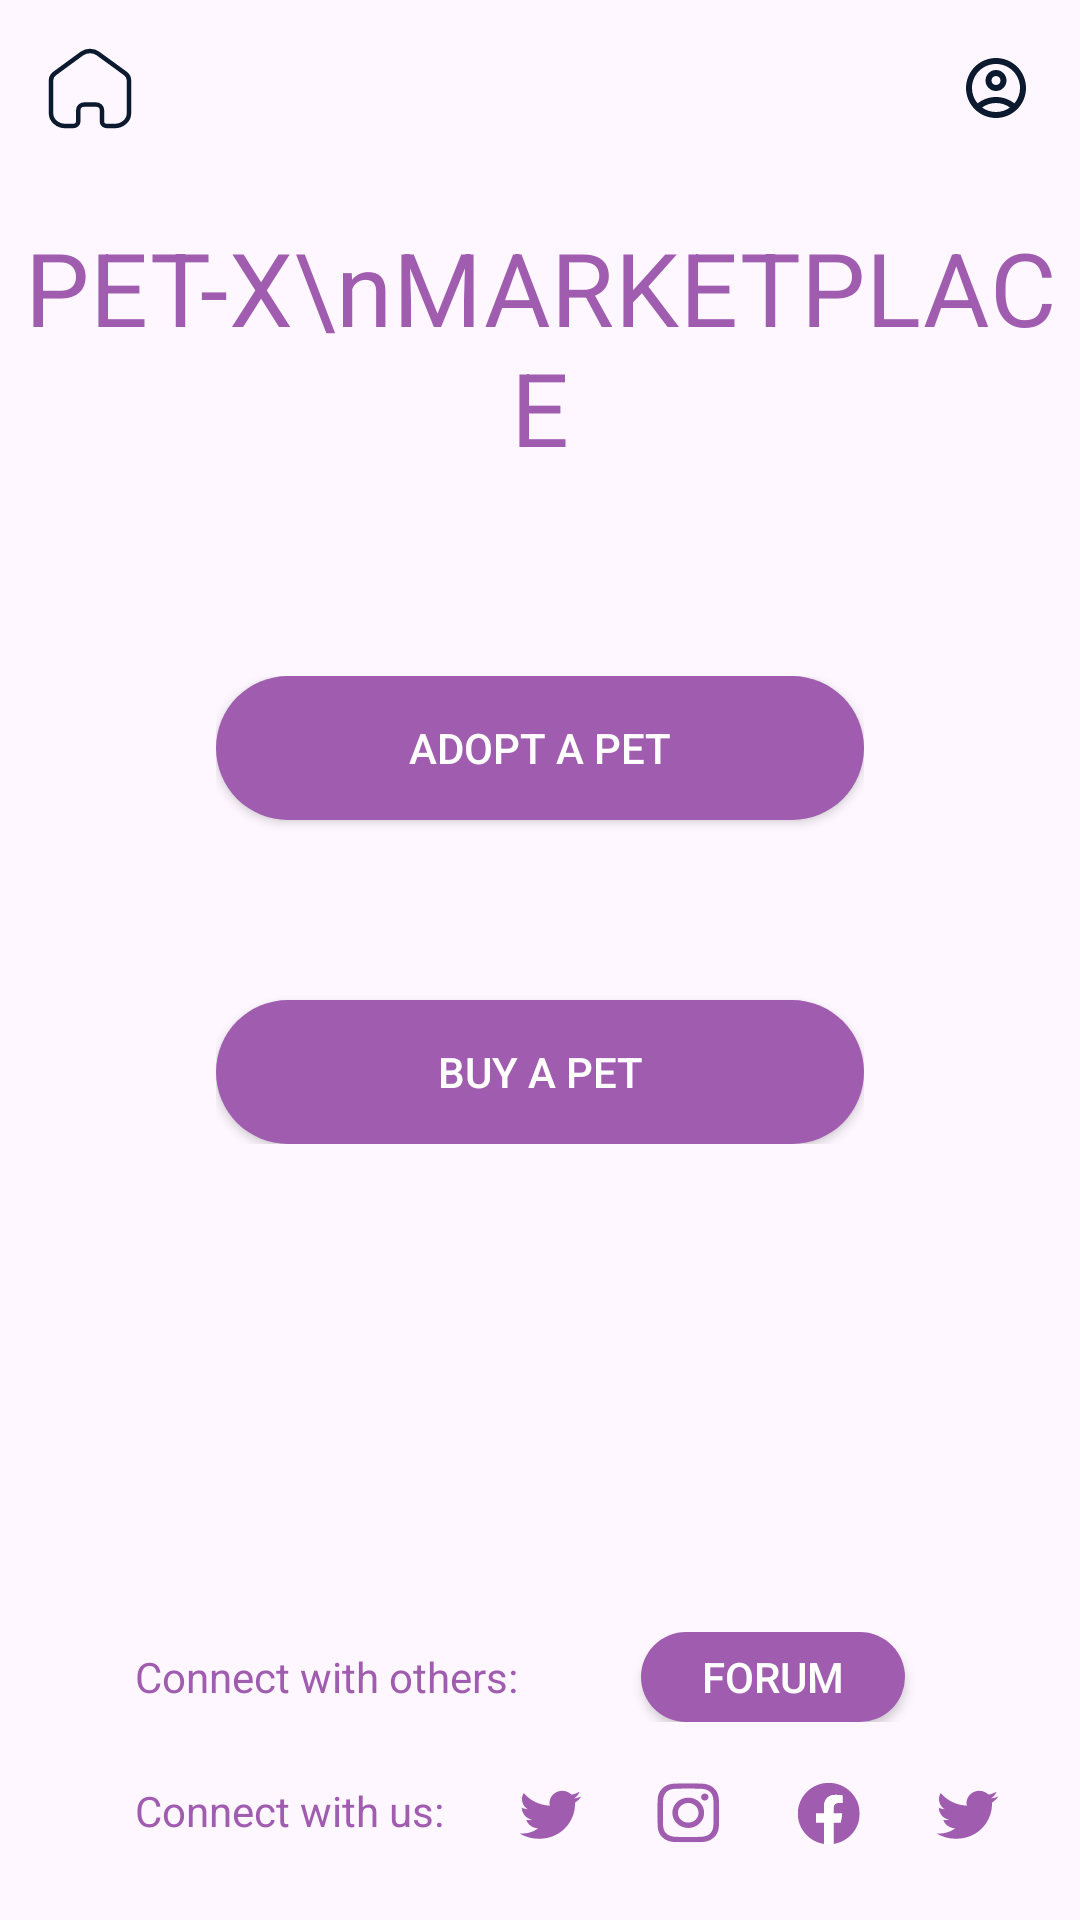

Icons on this 1080w x 1920h Android screen, each with the point to tap as (x,y):
account circle: (996,88)
home: (90,88)
